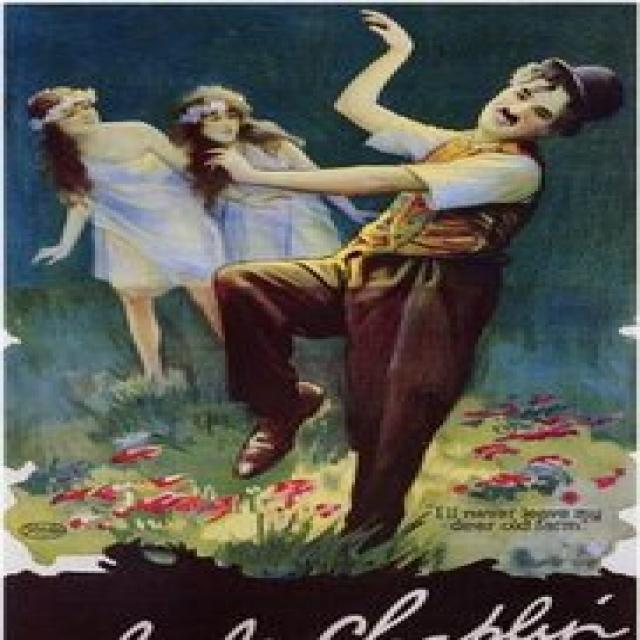movie-judul: (70, 597, 640, 640)
picture: (18, 14, 632, 521)
